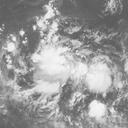cyclone: (35, 34, 113, 98)
